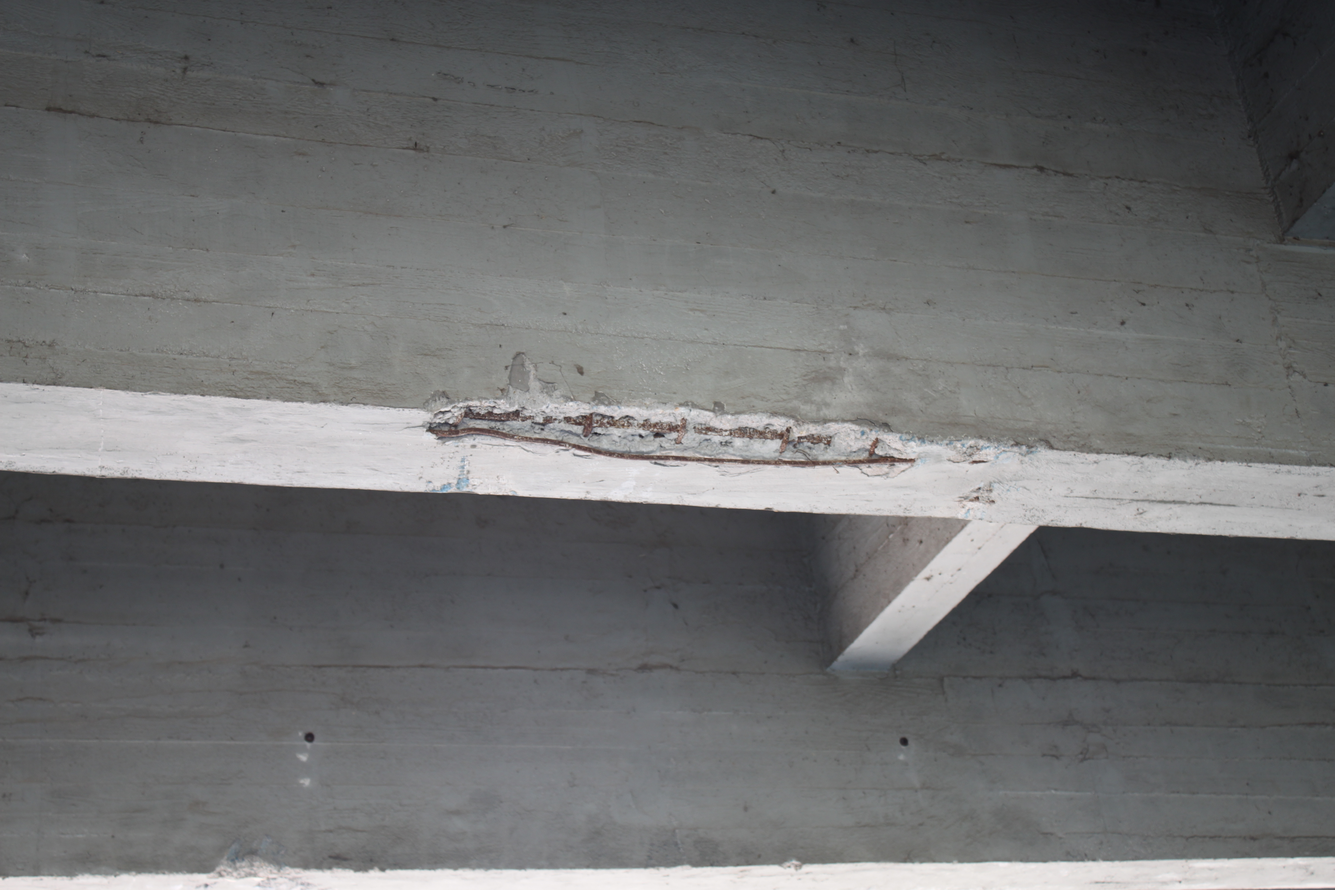Corrosion/Exposed rebar: (422, 399, 936, 495), (424, 413, 923, 489)
Spalling: (415, 346, 1005, 505)
